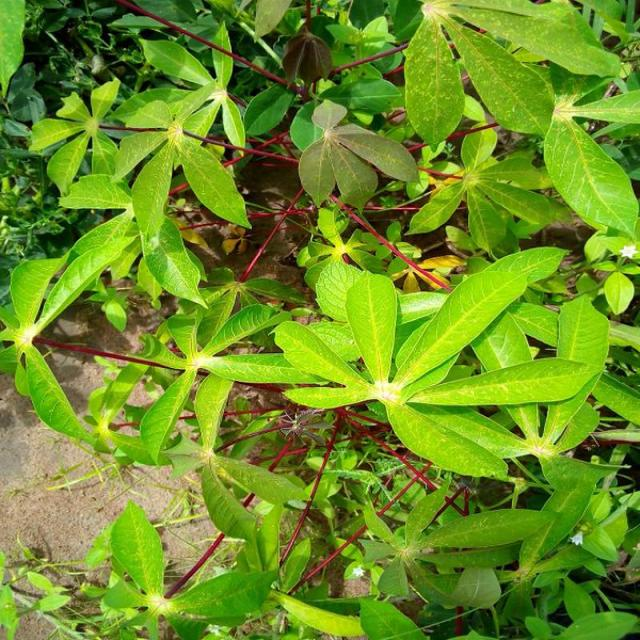cassava leaf: (2, 1, 638, 636), (274, 244, 608, 482)
